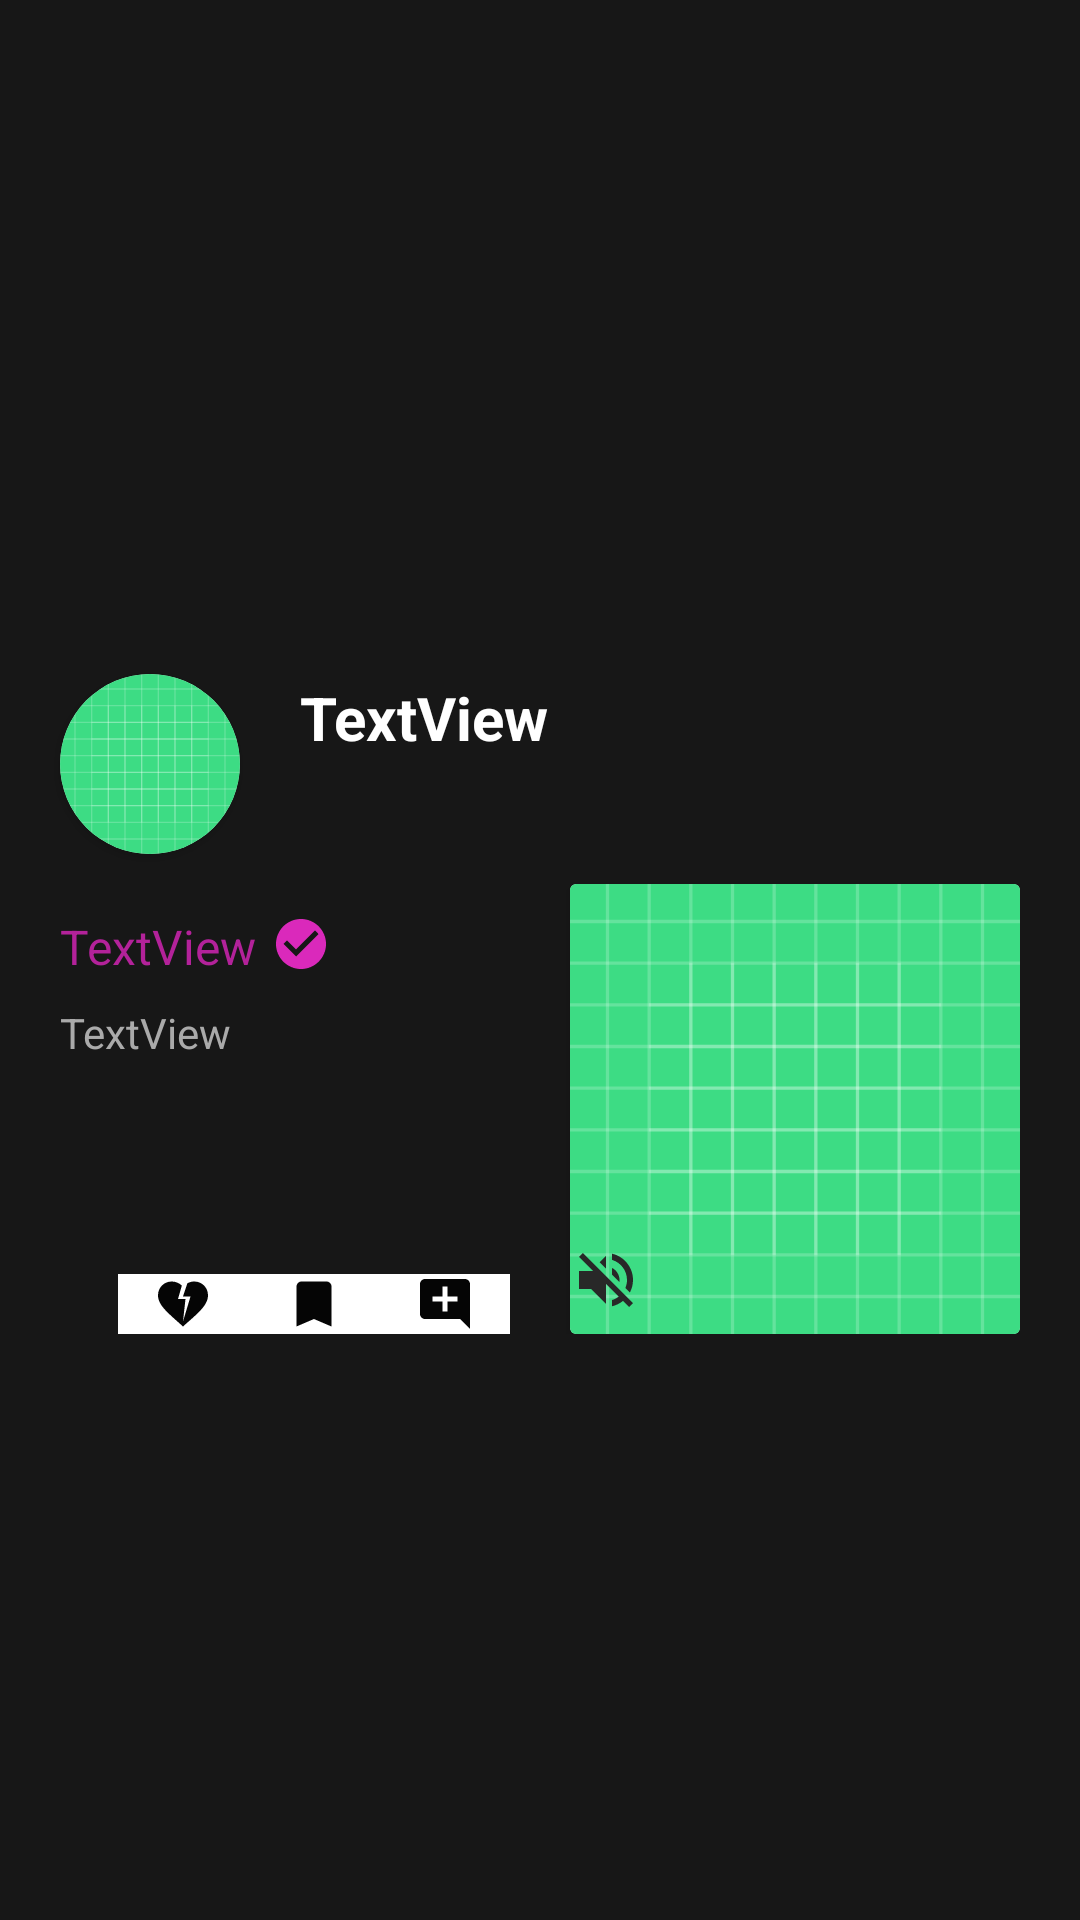

Locate icon controls on the screen. Image size 1080*1920, boxes as BBox(x1, y1, x2, y2).
bookmark: BBox(296, 1281, 332, 1327)
check circle: BBox(276, 919, 326, 969)
volume off: BBox(570, 1244, 642, 1316)
